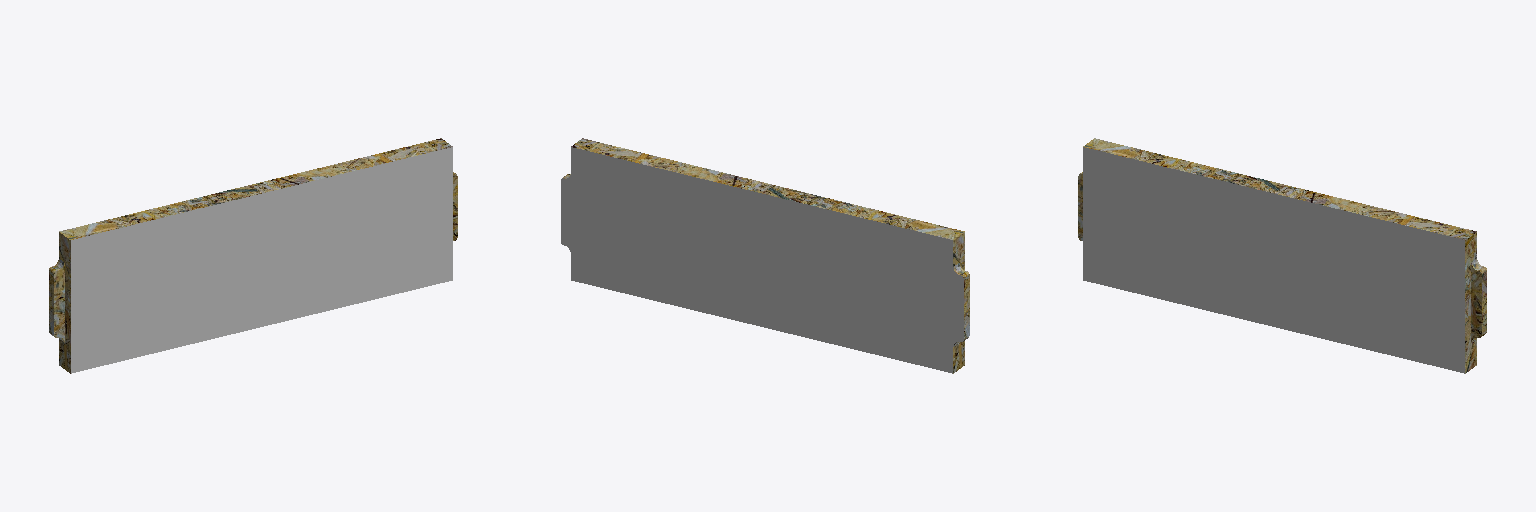
3 renders of one model, left to right at view 1: azimuth 30°, elevation 25°; view 2: azimuth 150°, elevation 25°; view 3: azimuth 330°, elevation 25°, orthographic.
Parts seen in each view (by area): view 1: Product; view 2: Product; view 3: Product.
Boxes of the visible parts, <box> form: Product: <box>49,138,457,373</box>; Product: <box>561,138,969,373</box>; Product: <box>1078,138,1486,373</box>.
Size of the model in its own units: 316 by 100 by 16.
2 materials, 1 textured.